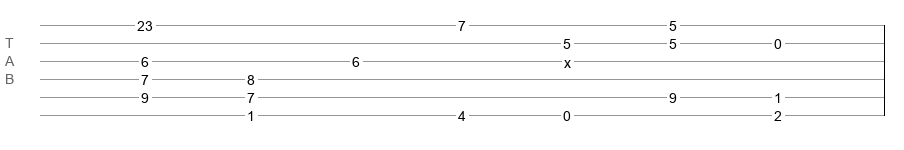0: (563, 108, 571, 118), (774, 36, 782, 46)
1: (247, 108, 255, 118), (774, 90, 782, 100)
2: (774, 108, 782, 118)
23: (137, 18, 153, 28)
4: (458, 108, 466, 118)
5: (563, 36, 571, 46), (669, 36, 677, 46), (669, 18, 677, 28)
6: (141, 54, 149, 64), (352, 54, 360, 64)
7: (141, 72, 149, 82), (247, 90, 255, 100), (458, 18, 466, 28)
8: (247, 72, 255, 82)
9: (141, 90, 149, 100), (669, 90, 677, 100)
x: (564, 55, 571, 63)
